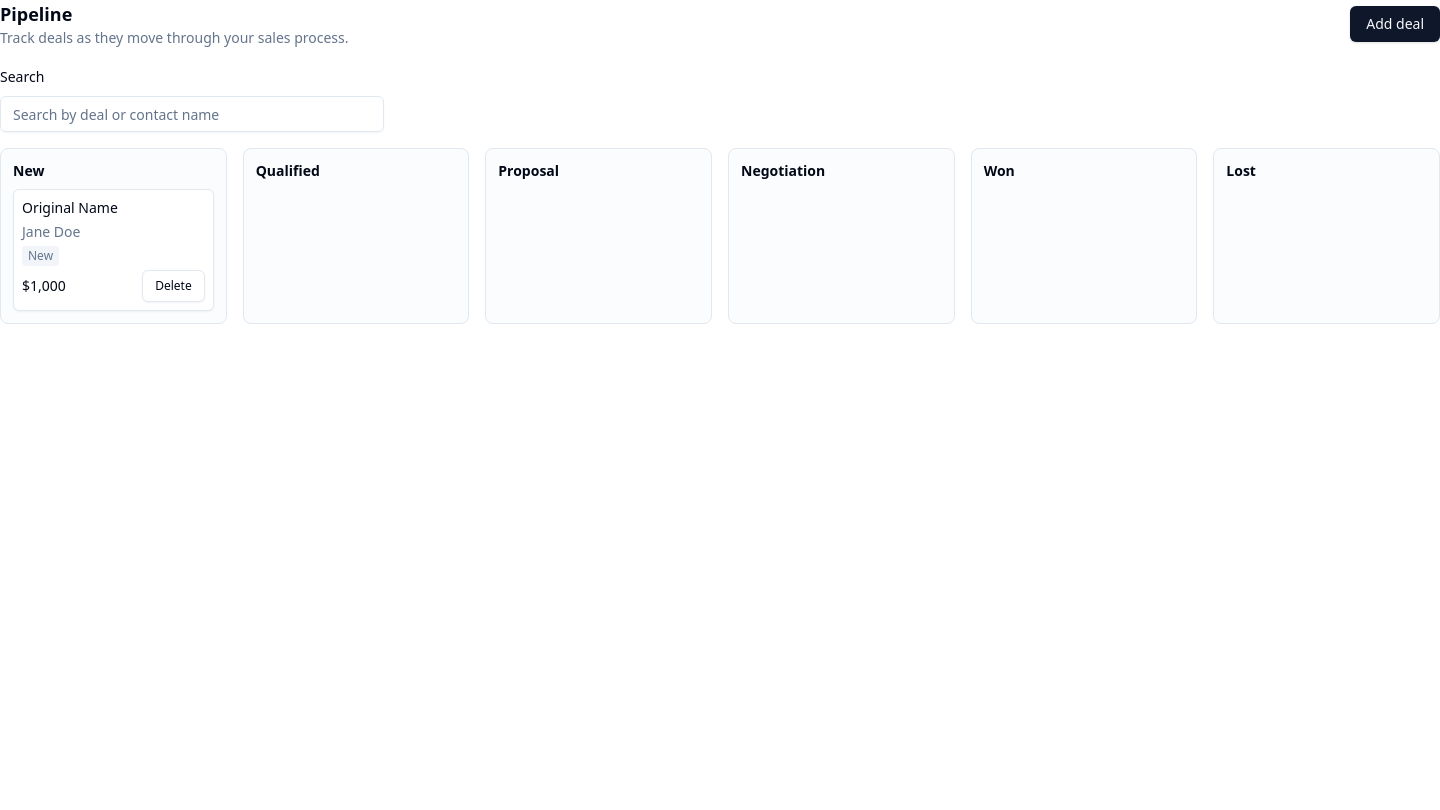
Test case: PipelinePage › edits an existing deal
Click the button "Original Name": (70, 208) [22,198,118,218]
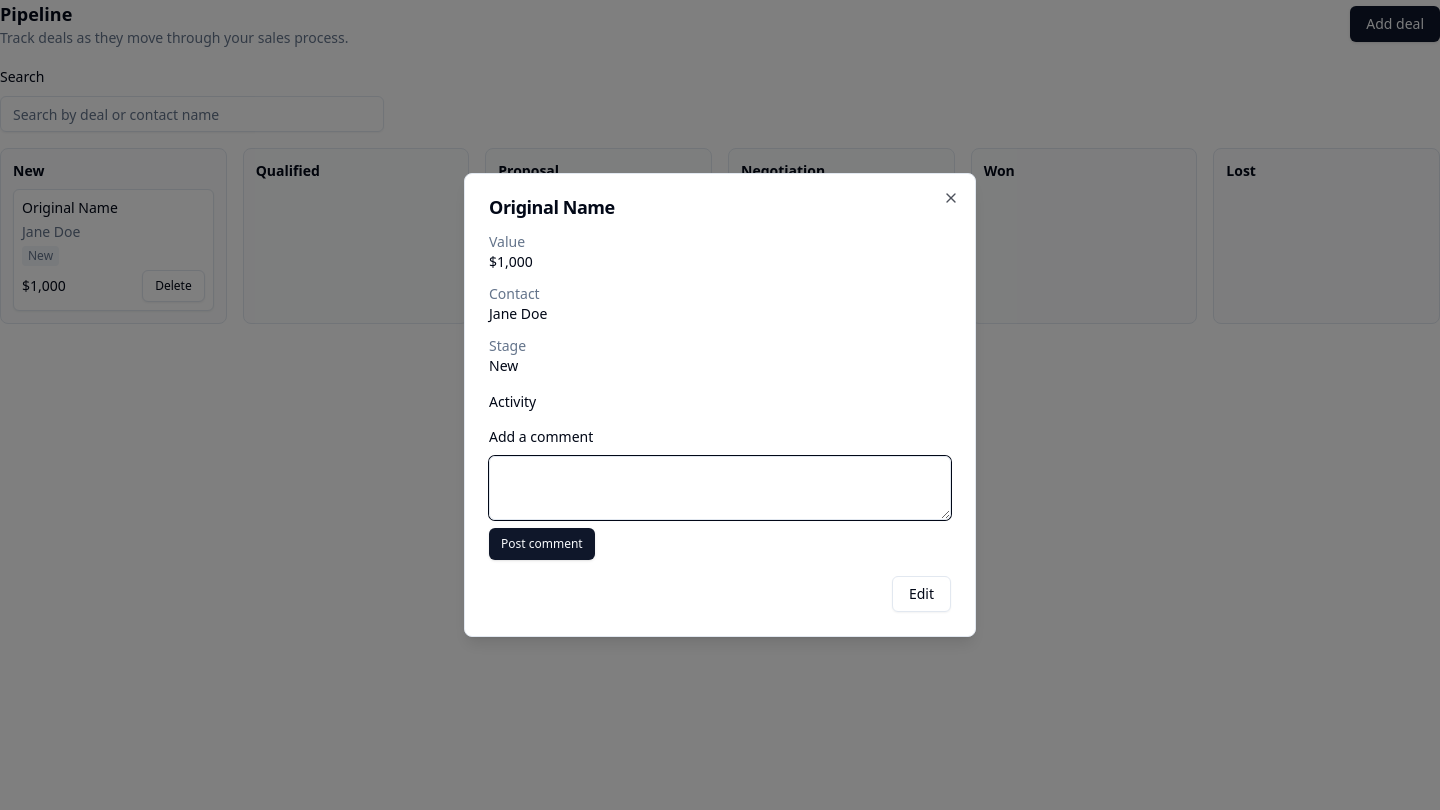
Click the button "Edit": (921, 594) [892,576,951,612]
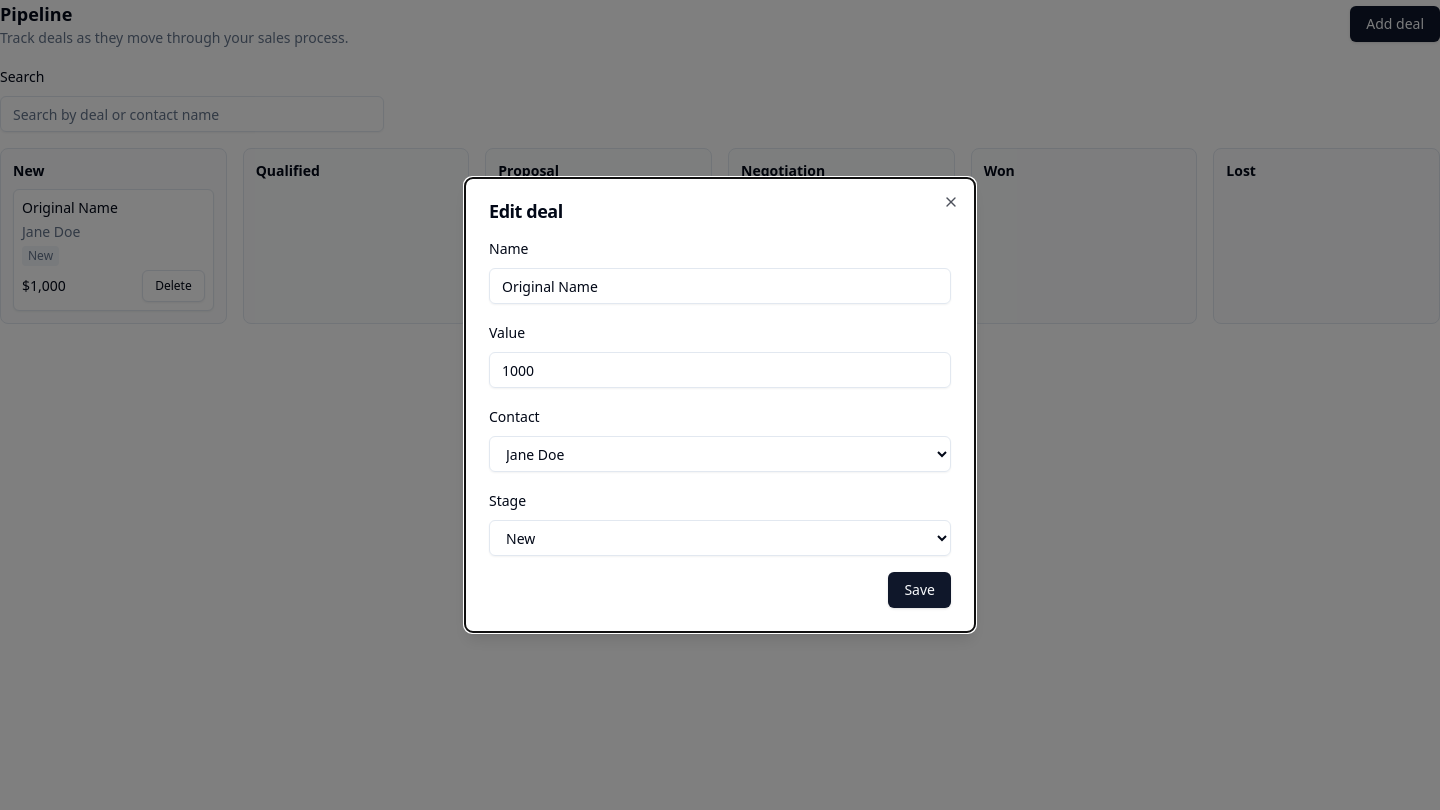
Replace the text in the field labelled "Name" with "Renamed Deal": (720, 286) [489,268,951,304]
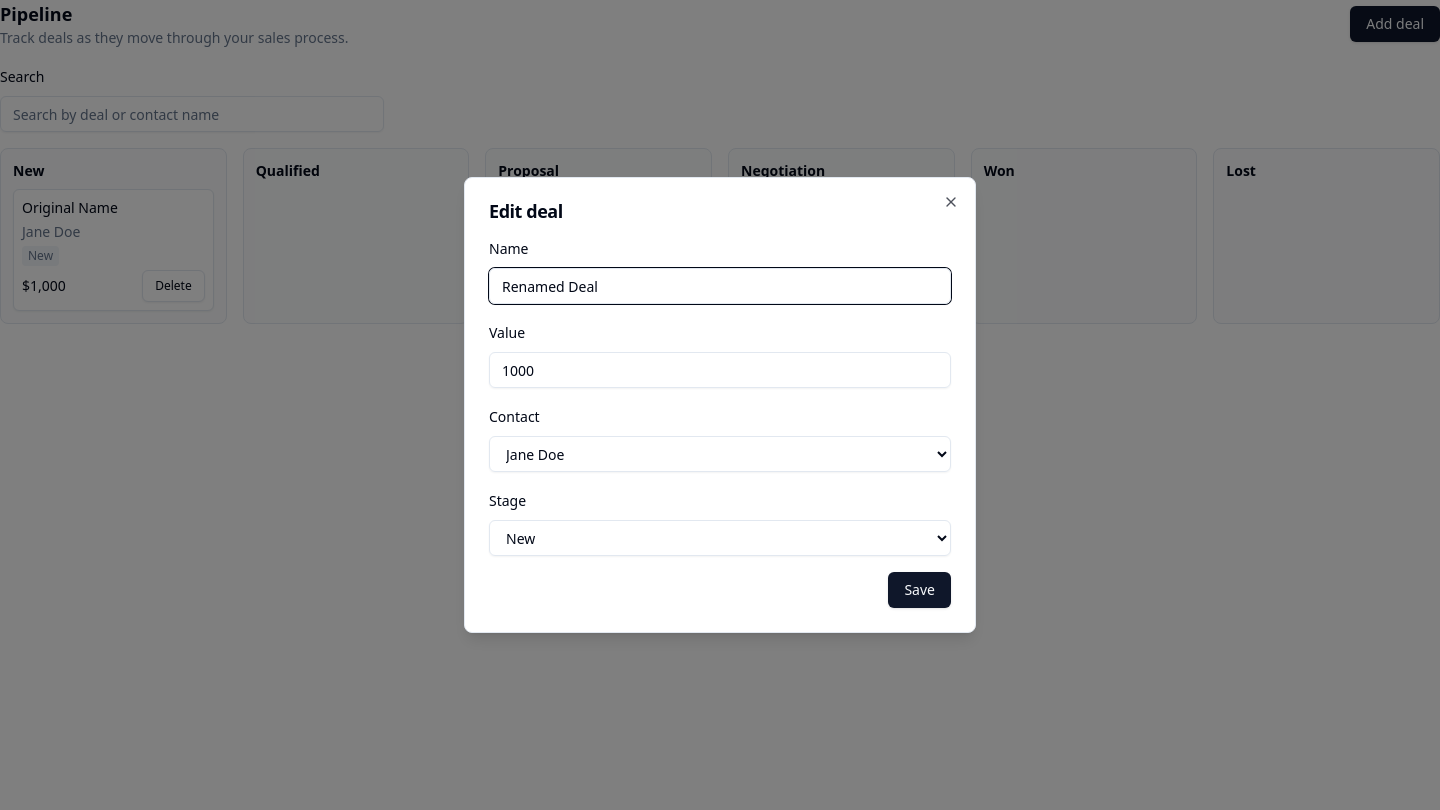
Click the button "Save": (920, 590) [888,572,951,608]
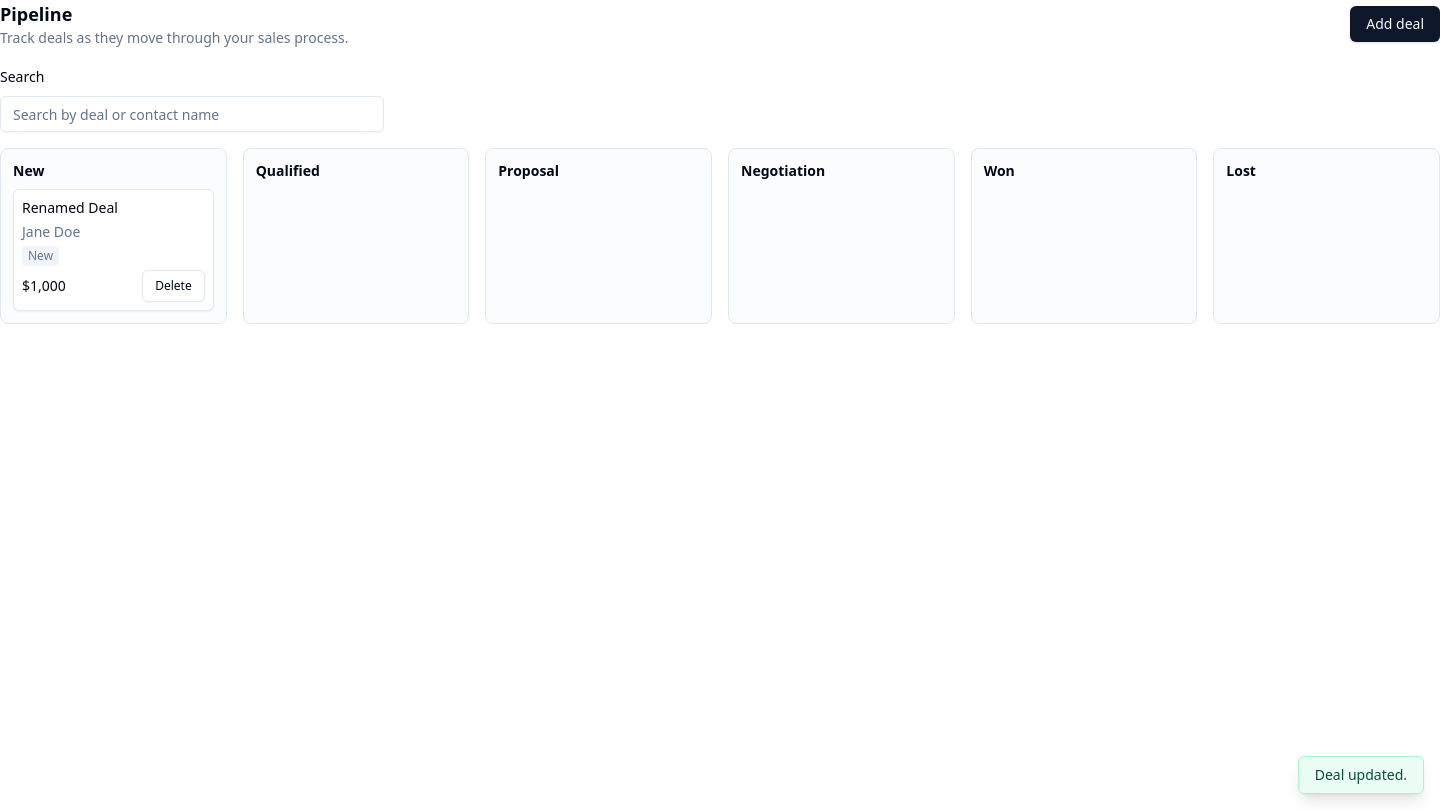
Expected: the button "Renamed Deal" is shown, [22,198,118,218]
